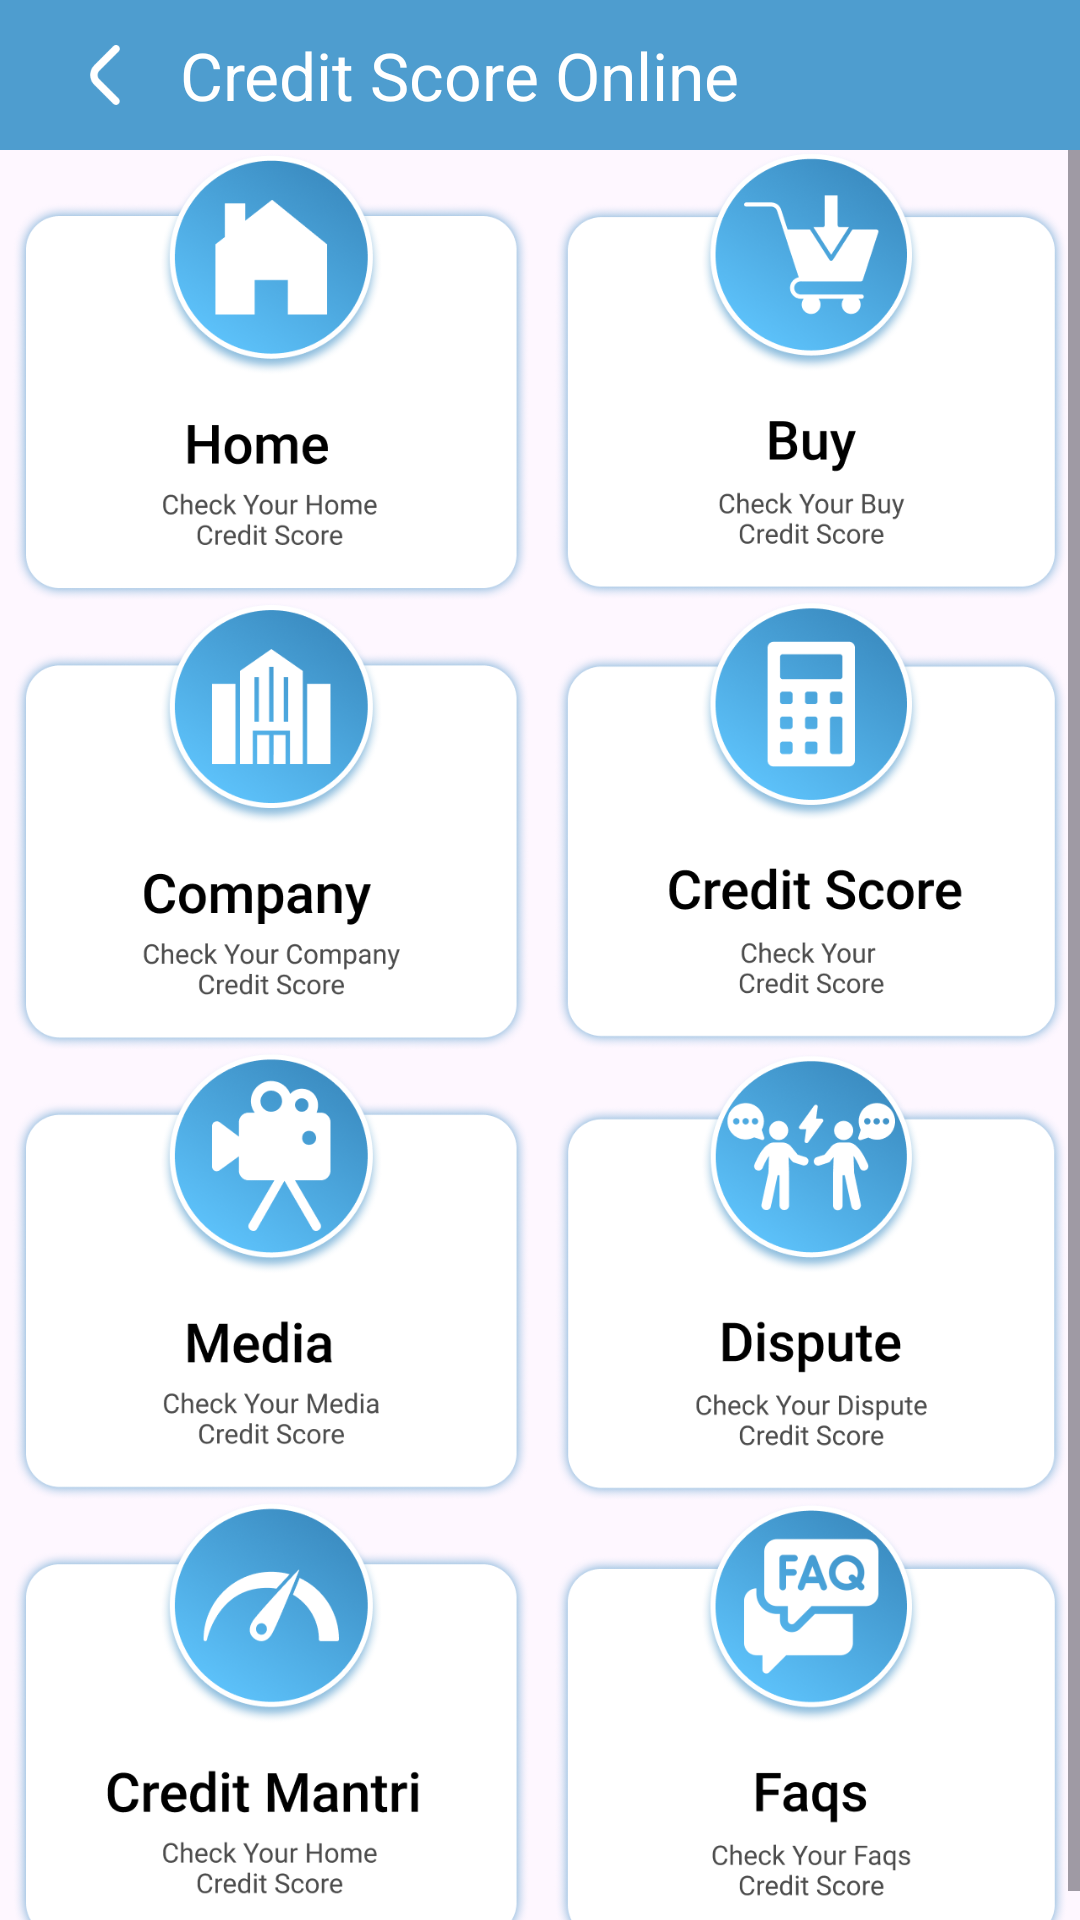

Icon bounding boxes for this 1080 x 1920 phone screenshot, format [x1, y1, x2, y2]:
back: [90, 45, 120, 105]
